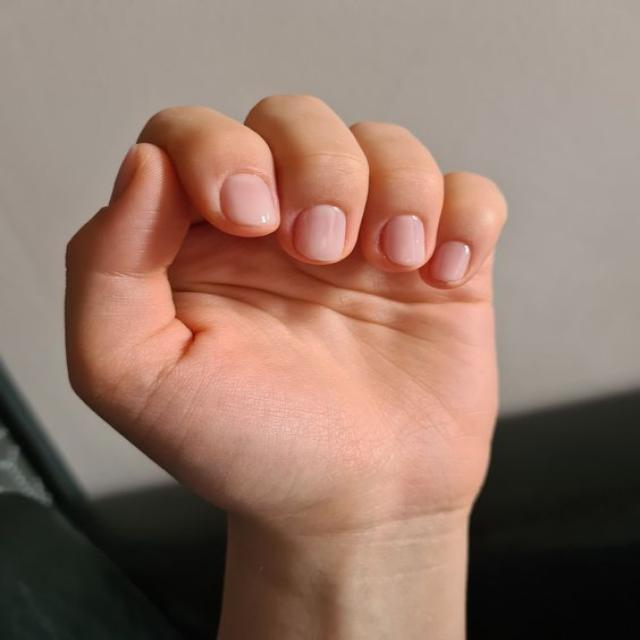Fingernail: (297, 203, 350, 264), (222, 173, 278, 228), (382, 214, 425, 268), (428, 240, 472, 284), (107, 148, 136, 208)
